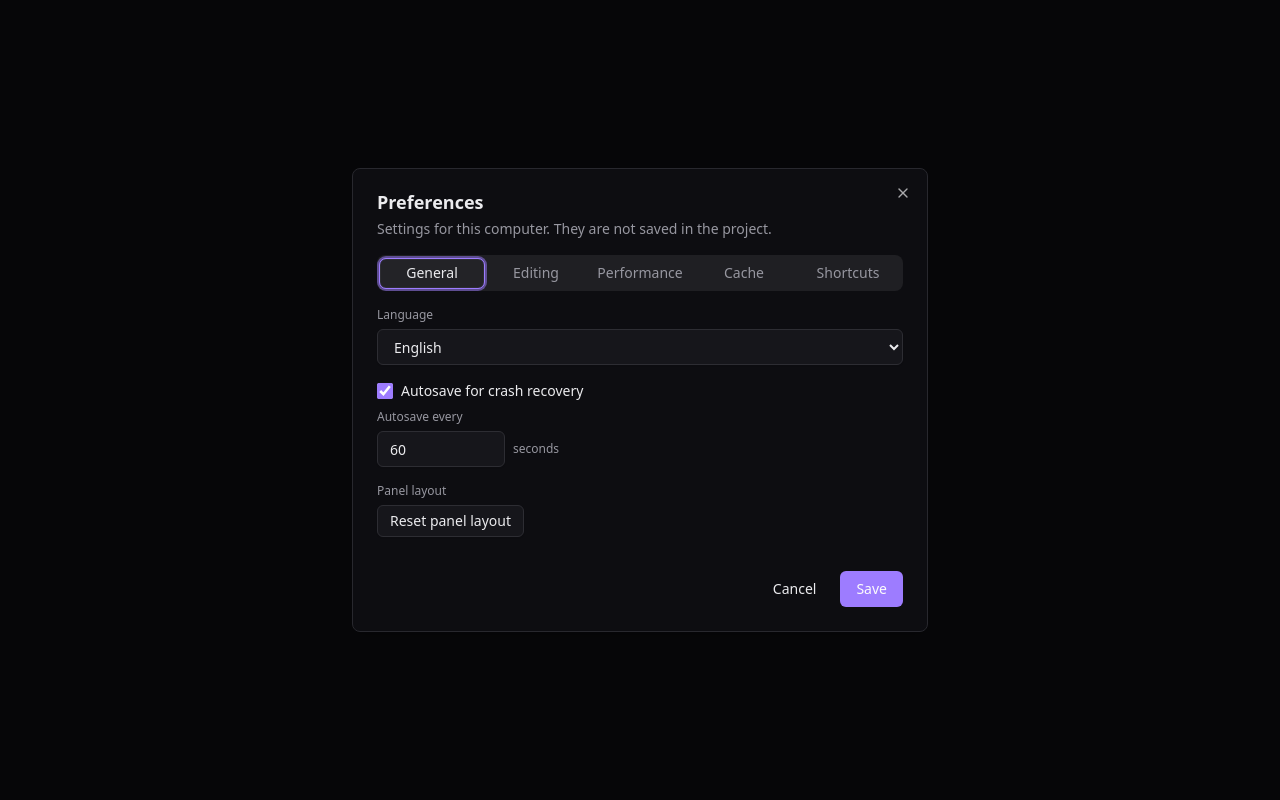
PreferencesDialog › shows the GPU report on the Performance tab
The width and height of the screenshot is (1280, 800).
Press the mouse on the tab "Performance" at [640, 273], box left=588, top=258, right=692, bottom=288
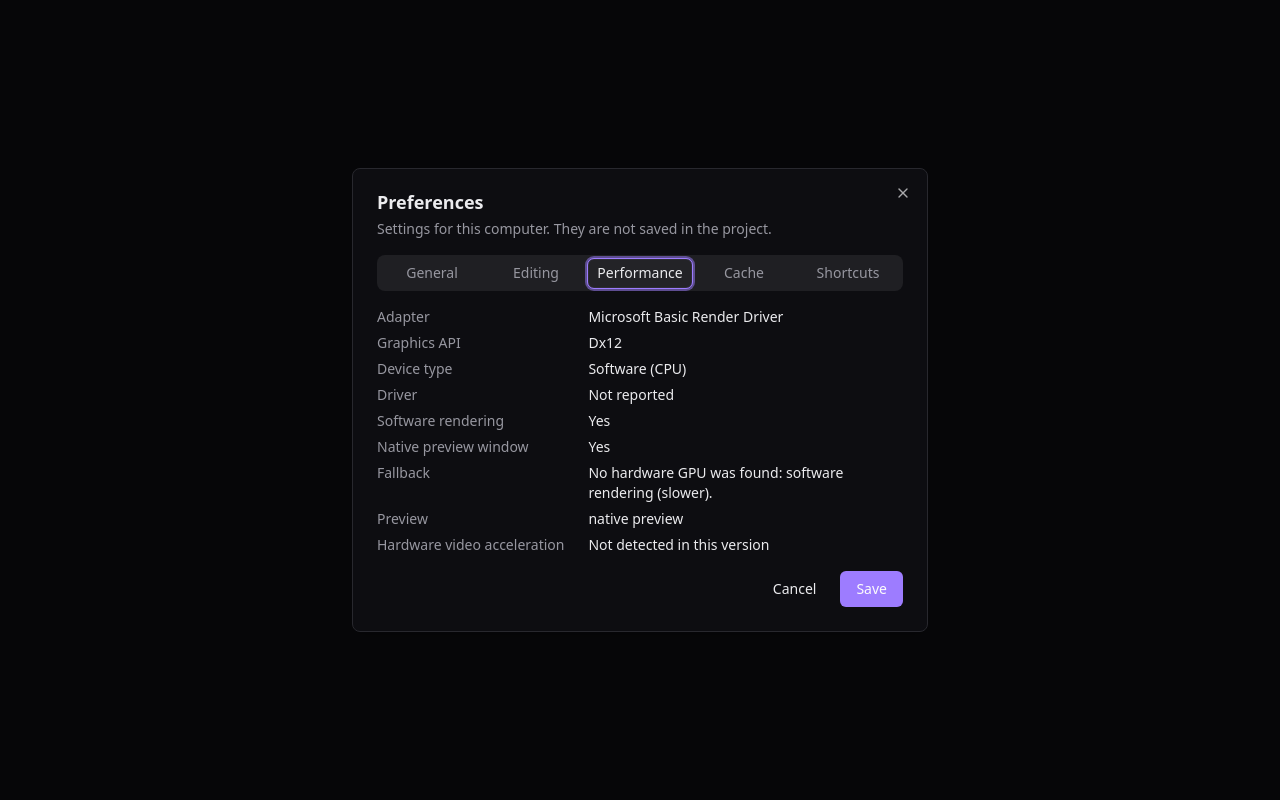
Now the text "Microsoft Basic Render Driver" is shown, box left=588, top=307, right=783, bottom=326
Now the text "Software (CPU)" is shown, box left=588, top=359, right=686, bottom=378
Now the text "No hardware GPU was found: software rendering (slower)." is shown, box left=588, top=463, right=843, bottom=502
